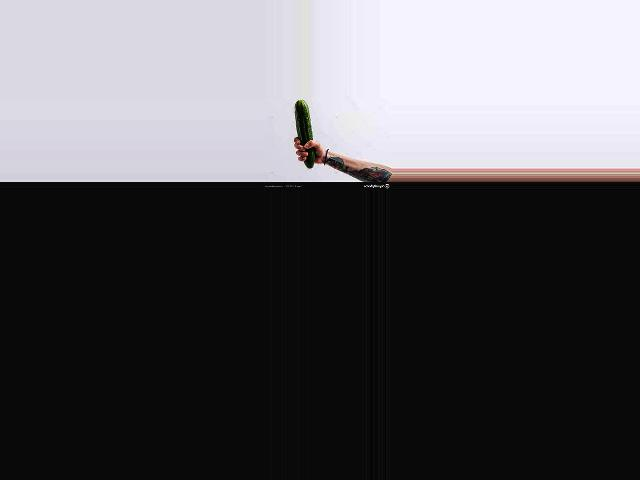cucumber: (294, 99, 314, 168)
